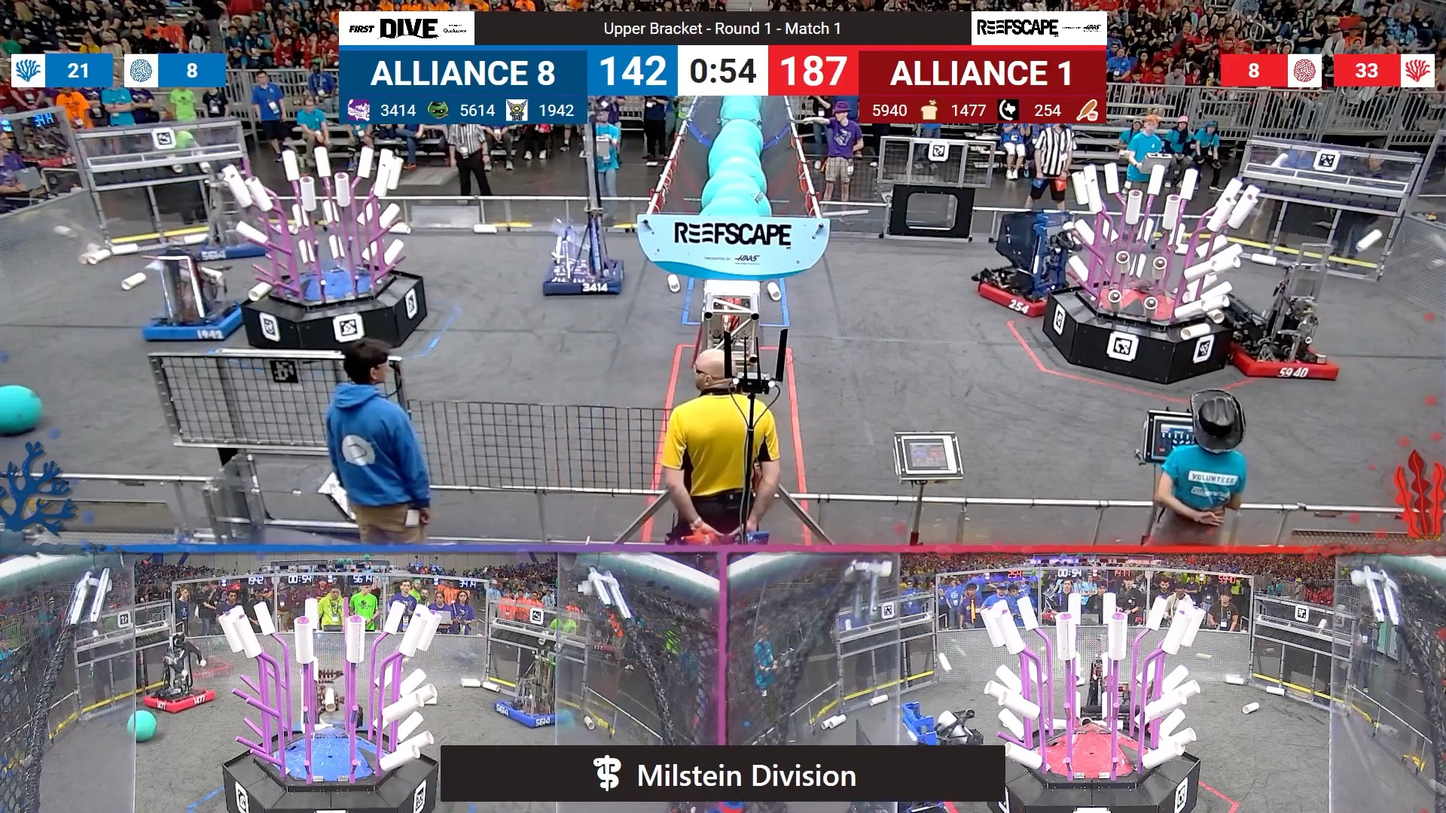bumpers: (1219, 328, 1347, 390), (138, 296, 247, 347), (972, 274, 1077, 321), (537, 254, 630, 299), (178, 230, 279, 262), (136, 681, 223, 714), (488, 697, 567, 733)
